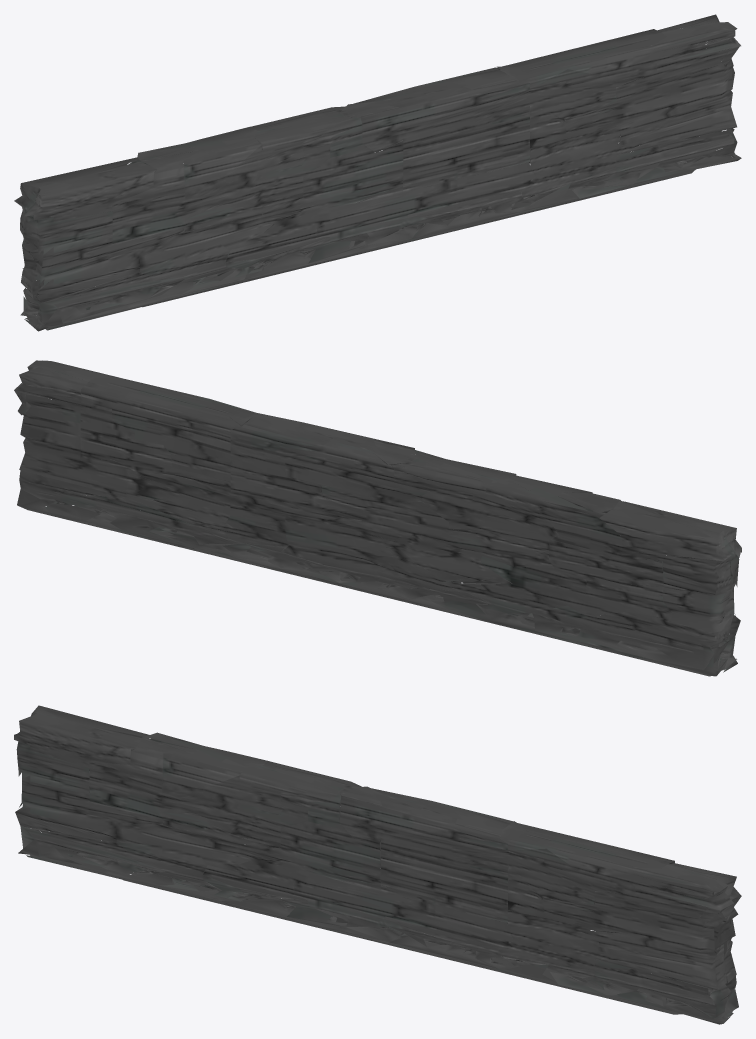
File: dungeon really long wall.glb
The picture shows the model from 3 angles, top to bottom: view 1: azimuth 30°, elevation 25°; view 2: azimuth 150°, elevation 25°; view 3: azimuth 330°, elevation 25°; orthographic projection.
Visible parts, largest first — view 1: Mesh_0; view 2: Mesh_0; view 3: Mesh_0.
Part boxes in pixels (x1,y1,x2,y2): Mesh_0: [14, 14, 741, 331]; Mesh_0: [14, 360, 741, 676]; Mesh_0: [14, 705, 741, 1024].
Size of the model in its own units: 1.77 by 0.328 by 0.1138.
1 material, 1 textured.
